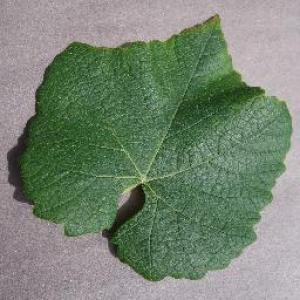Folha: (16, 13, 293, 281)
